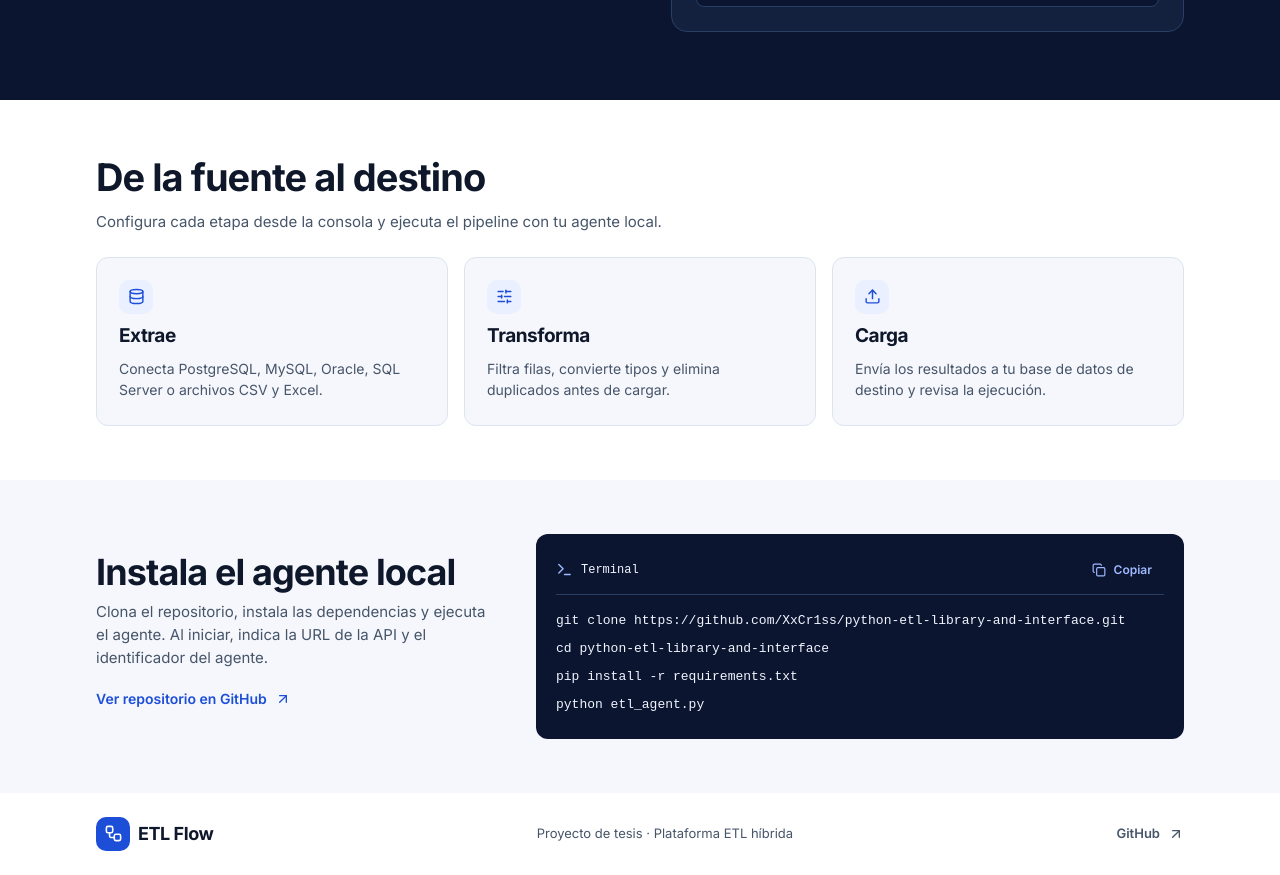
Scenario: ETL Flow home › keeps the commands visible when the browser refuses clipboard access
(page scrolled)
What coordinates should you click on to do the following:
click the button "Copiar"
I would click on:
 (1122, 570)
Its box is [1080,554,1164,586].
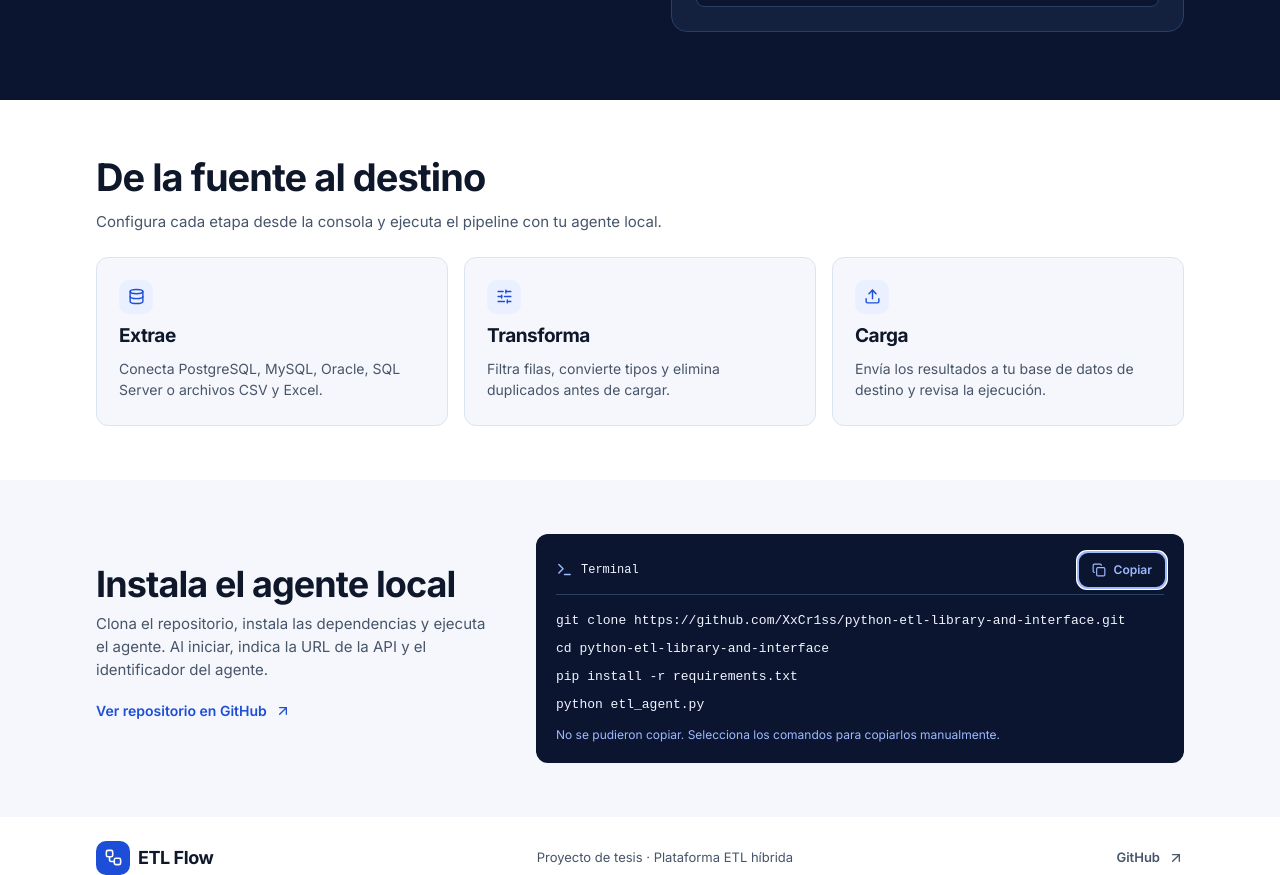
Expected: the text "pip install -r requirements.txt" is shown, [556,612,1126,712]
Expected: the message shows "Selecciona los comandos para copiarlos manualmente.", [556,726,1000,742]
